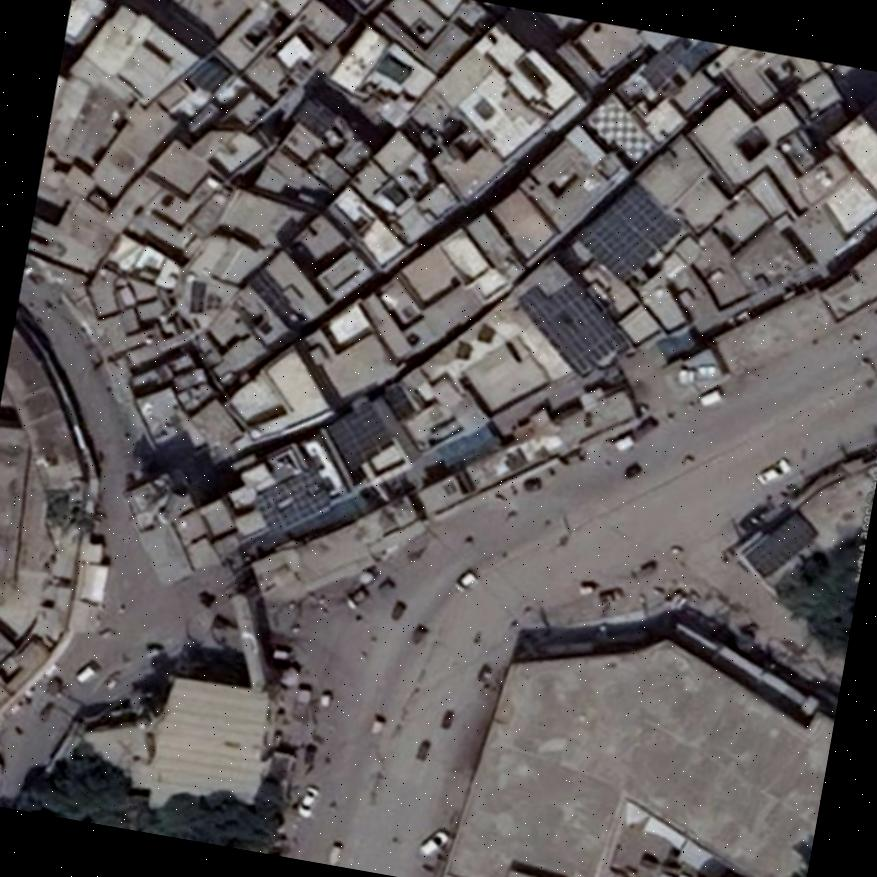Solarpanel: (518, 265, 620, 375), (576, 184, 677, 281), (252, 469, 329, 532), (327, 401, 392, 468), (296, 95, 332, 136)
